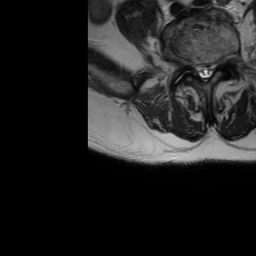CCS_stenosis: (201, 54, 208, 88)
LFS_stenosis: (215, 49, 223, 72)
LLS_normal: (208, 55, 214, 80)
RFS_stenosis: (186, 53, 195, 75)
RLS_stenosis: (194, 56, 201, 80)
